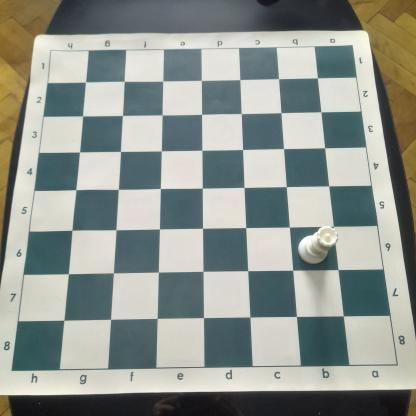white-queen: (297, 225, 339, 265)
